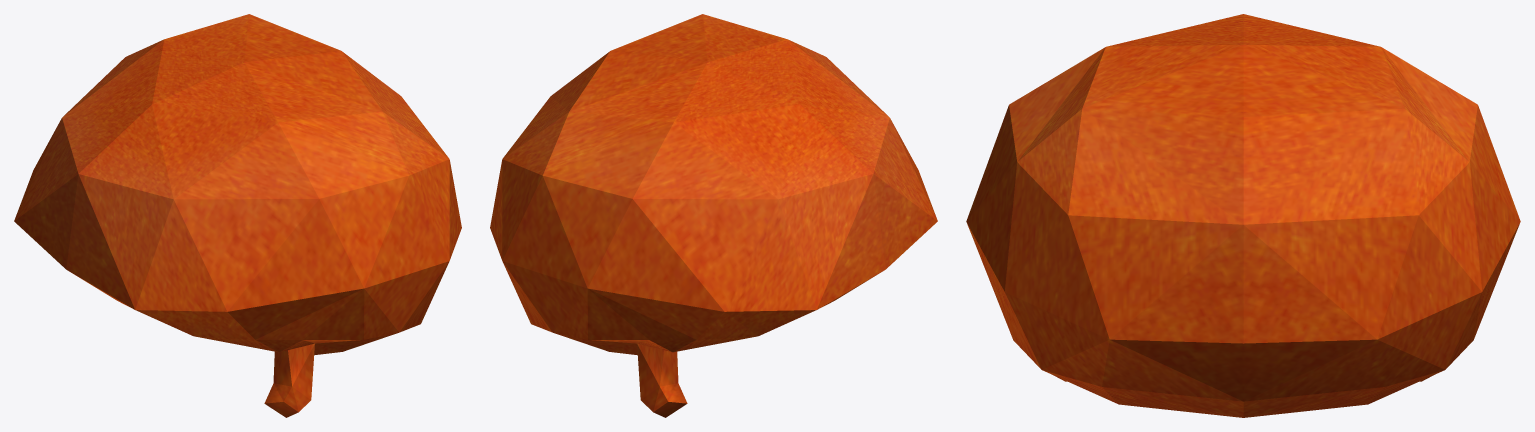
Rendered from Bison_afro.obj.
3 views of the same model, side by side, from view 1: azimuth 30°, elevation 25°; view 2: azimuth 150°, elevation 25°; view 3: azimuth 270°, elevation 25° (orthographic). The views are drawn at different scales.
Parts seen in each view (by area): view 1: Bison_afro_tri; view 2: Bison_afro_tri; view 3: Bison_afro_tri.
Boxes of the visible parts, left/top/right/bottom form: Bison_afro_tri: left=14, top=14, right=461, bottom=417; Bison_afro_tri: left=490, top=14, right=937, bottom=417; Bison_afro_tri: left=966, top=14, right=1520, bottom=417.
Bounding box in the file's own units: 0.7943 × 0.6391 × 0.9032.
1 material, 1 textured.
